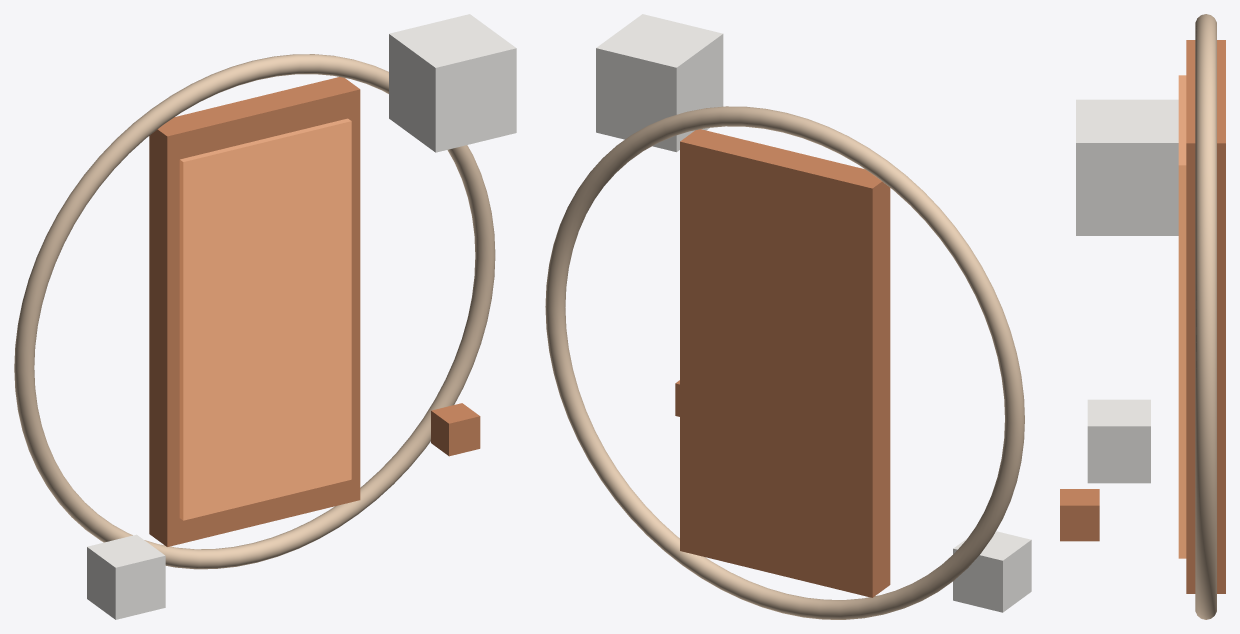
File: mezone-device.gltf
3 renders of one model, left to right at view 1: azimuth 30°, elevation 25°; view 2: azimuth 150°, elevation 25°; view 3: azimuth 270°, elevation 25°, orthographic. The views are drawn at different scales.
Parts seen in each view (by area): view 1: screen, body, ring, tile, tile2, tile3; view 2: body, ring, tile, tile2; view 3: tile, ring, body, tile2, screen, tile3.
Part boxes in pixels (x1,y1,x2,y2): screen: (179, 118, 351, 520); body: (149, 77, 360, 546); ring: (14, 54, 495, 569); tile: (389, 14, 516, 152); tile2: (87, 534, 165, 619); tile3: (431, 403, 480, 456); body: (680, 129, 890, 597); ring: (545, 106, 1024, 619); tile: (596, 14, 723, 152); tile2: (953, 531, 1031, 612); tile: (1076, 99, 1178, 235); ring: (1195, 14, 1216, 619); body: (1186, 40, 1225, 593); tile2: (1087, 399, 1150, 483); screen: (1178, 75, 1186, 558); tile3: (1060, 489, 1099, 541).
Bounding box in the file's own units: 1.54 × 1.56 × 0.42.
